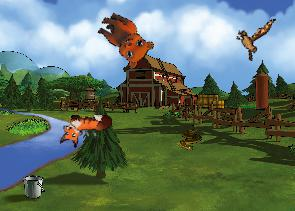bear: (88, 8, 158, 72)
eagle: (231, 11, 276, 64)
fox: (59, 112, 112, 148)
